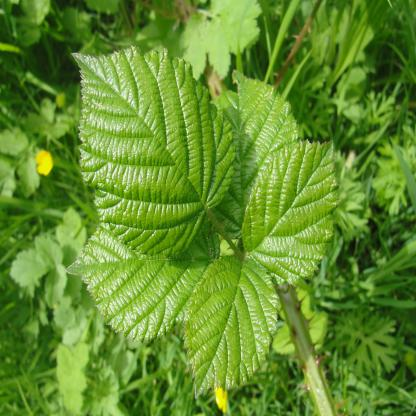raspberry leaf: (71, 45, 237, 255), (66, 215, 215, 339), (212, 62, 301, 227), (242, 137, 341, 280), (187, 253, 278, 391)
